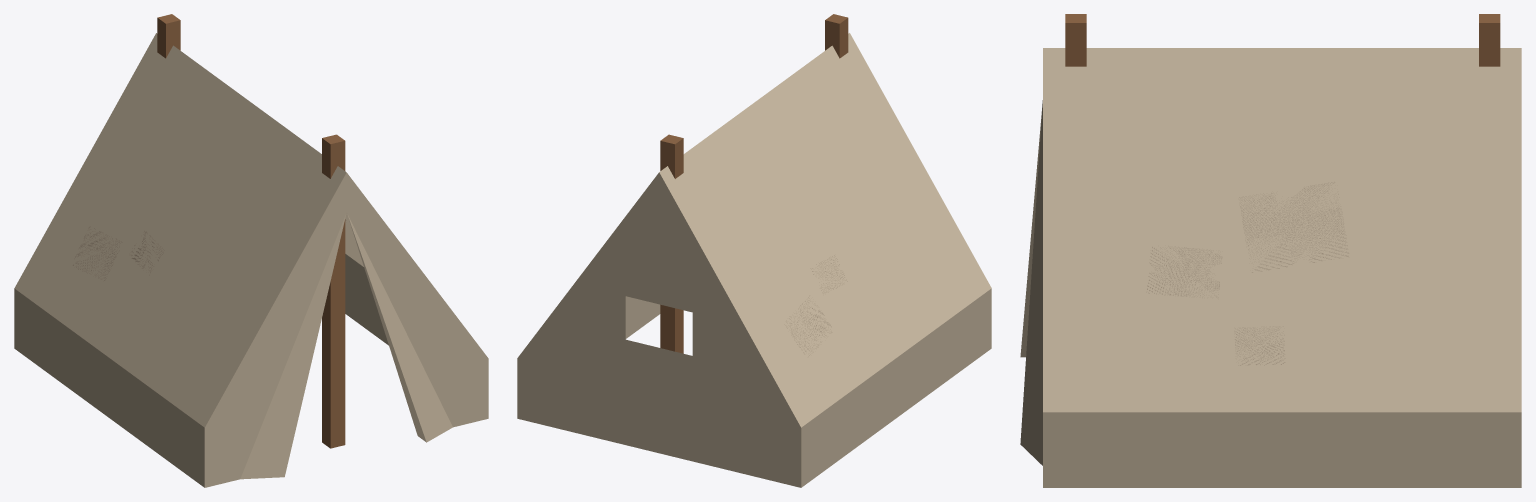
The model's file is yurt_felt_smallOpen.obj.
3 views of the same model, side by side, from view 1: azimuth 30°, elevation 25°; view 2: azimuth 150°, elevation 25°; view 3: azimuth 270°, elevation 25° (orthographic). The views are drawn at different scales.
Visible parts, largest first — view 1: tent_smallOpen; view 2: tent_smallOpen; view 3: tent_smallOpen.
Part boxes in pixels (left/top/right/bottom): tent_smallOpen: left=14, top=14, right=488, bottom=487; tent_smallOpen: left=517, top=14, right=991, bottom=487; tent_smallOpen: left=1020, top=14, right=1521, bottom=487.
Bounding box in the file's own units: 0.5476 × 0.5611 × 0.6664.
